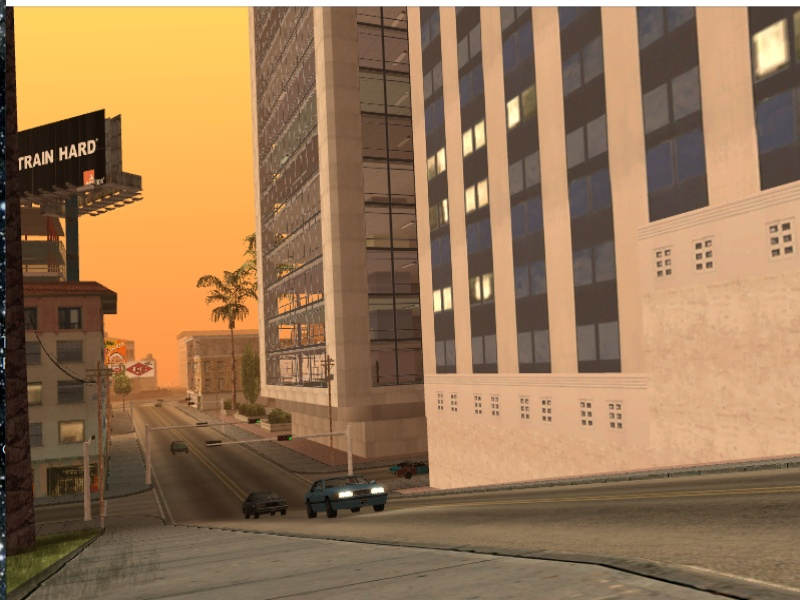pole: (96, 384, 105, 532), (80, 442, 91, 522), (143, 422, 152, 490), (345, 428, 354, 477)
vehicle: (308, 474, 387, 517), (240, 488, 287, 522), (389, 460, 426, 477), (167, 439, 190, 455)
